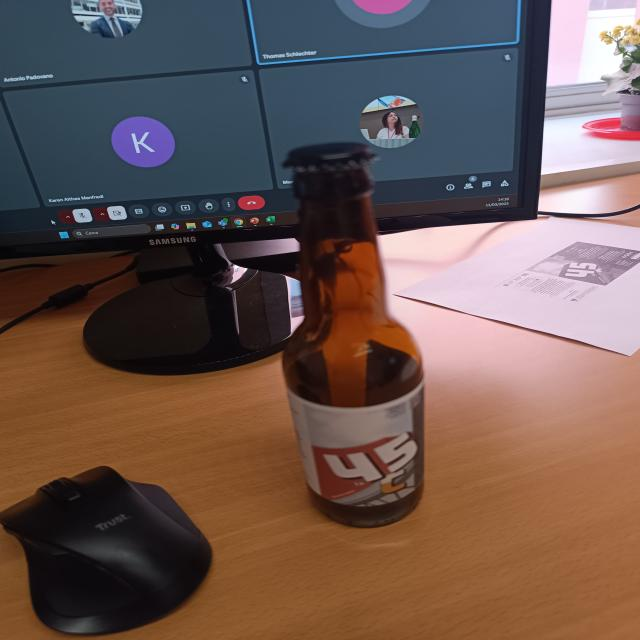Bottle: (284, 140, 428, 528)
Cap: (276, 140, 382, 170)
Label: (282, 388, 430, 508)
